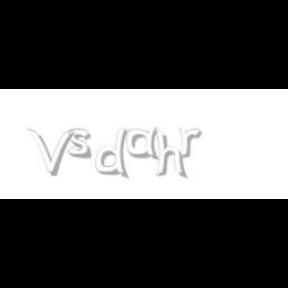V: (27, 128, 75, 176)
a: (126, 128, 163, 160)
d: (96, 128, 132, 180)
h: (154, 128, 189, 180)
r: (178, 128, 206, 158)
s: (68, 128, 96, 160)
